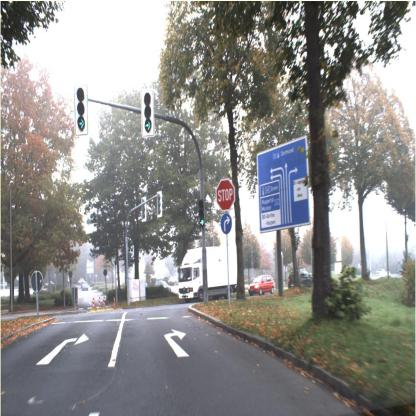mandatory: (219, 213, 234, 234)
other: (214, 179, 236, 210)
